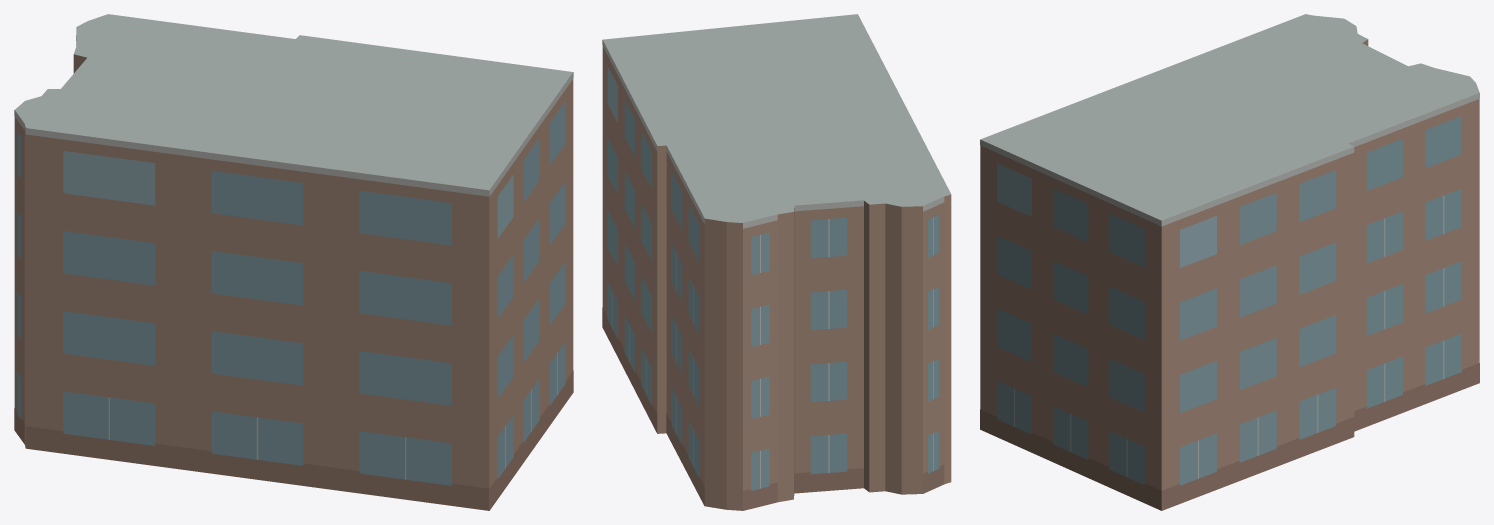
File: survey-upis-32924642.glb
3 views of the same model, side by side, from view 1: azimuth 30°, elevation 25°; view 2: azimuth 150°, elevation 25°; view 3: azimuth 270°, elevation 25° (orthographic). The views are drawn at different scales.
Parts seen in each view (by area): view 1: survey-upis-32924642.tmp; view 2: survey-upis-32924642.tmp; view 3: survey-upis-32924642.tmp.
Part boxes in pixels (<box>): survey-upis-32924642.tmp: <box>14,14,573,510</box>; survey-upis-32924642.tmp: <box>602,14,951,510</box>; survey-upis-32924642.tmp: <box>980,14,1479,510</box>.
Size of the model in its own units: 18.65 by 12.2 by 19.05.
